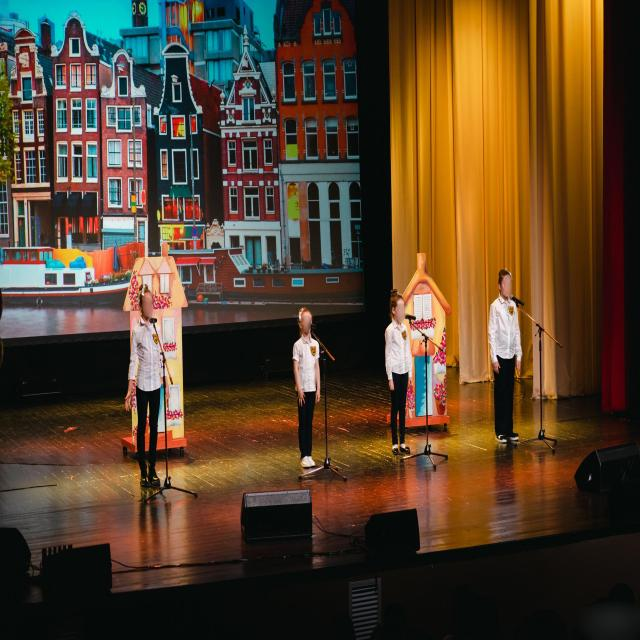Person: (111, 278, 182, 520), (475, 265, 533, 464), (281, 297, 332, 481), (374, 286, 422, 462)
